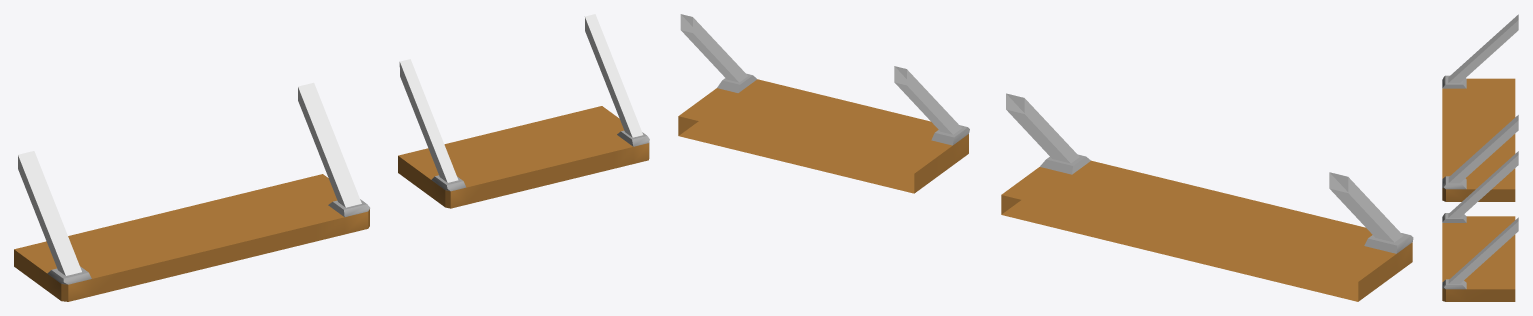
The model's file is planken 1.fbx.
3 renders of one model, left to right at view 1: azimuth 30°, elevation 25°; view 2: azimuth 150°, elevation 25°; view 3: azimuth 270°, elevation 25°, orthographic. The views are drawn at different scales.
Parts seen in each view (by area): view 1: PLAN_2, PLAN_1; view 2: PLAN_2, PLAN_1; view 3: PLAN_2, PLAN_1.
Part boxes in pixels (<box>): PLAN_2: <box>14,82,369,301</box>; PLAN_1: <box>398,14,649,208</box>; PLAN_2: <box>1001,93,1413,301</box>; PLAN_1: <box>678,14,969,193</box>; PLAN_2: <box>1442,14,1518,201</box>; PLAN_1: <box>1442,151,1518,301</box>.
Bounding box in the file's own units: 20.21 × 3.56 × 3.11.
